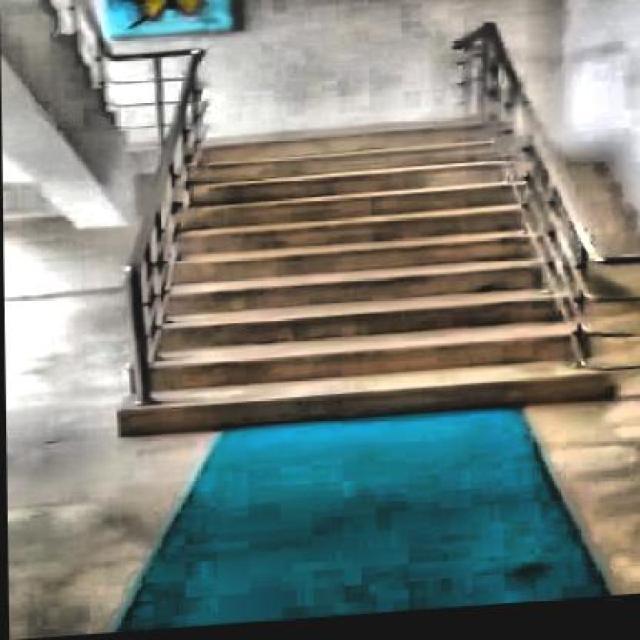stair: (149, 126, 609, 437)
